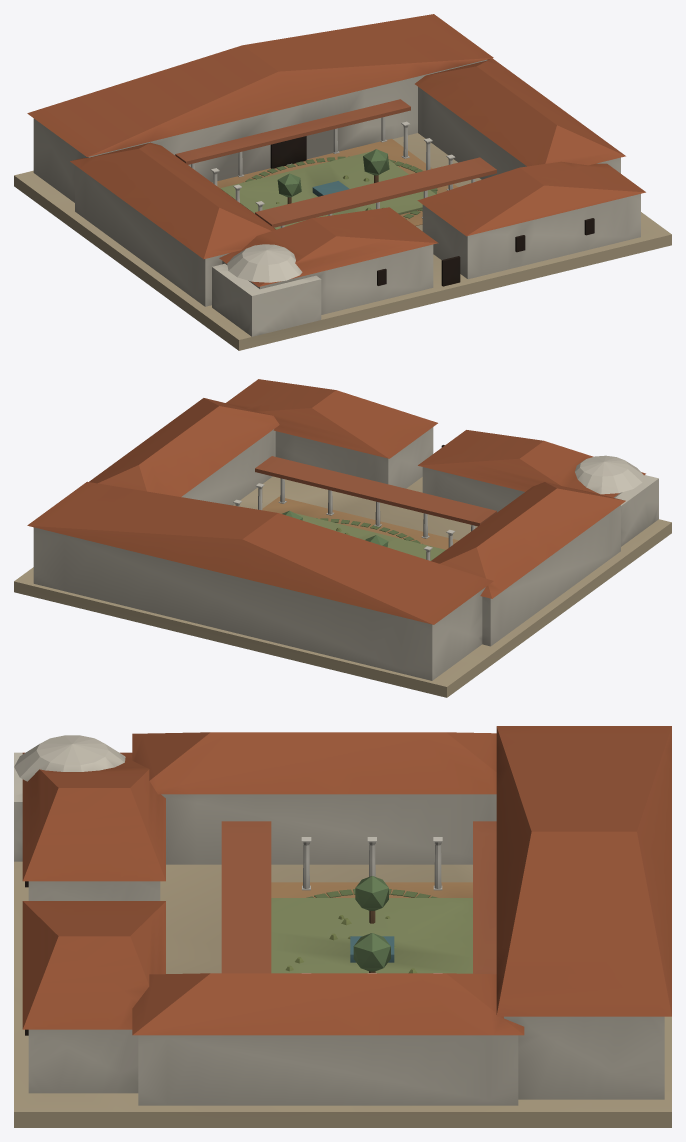
Rendered from villa-aviary.glb.
3 renders of one model, top to bottom at view 1: azimuth 30°, elevation 25°; view 2: azimuth 150°, elevation 25°; view 3: azimuth 270°, elevation 25°, orthographic. The views are drawn at different scales.
Parts seen in each view (by area): view 1: p2_roofs, p0_walls, p1_peristyle; view 2: p2_roofs, p0_walls, p1_peristyle; view 3: p2_roofs, p0_walls, p1_peristyle.
Boxes of the visible parts, x1=… form: p2_roofs: x1=27, y1=14, x2=645, y2=336; p0_walls: x1=14, y1=59, x2=671, y2=350; p1_peristyle: x1=191, y1=117, x2=475, y2=286; p2_roofs: x1=27, y1=379, x2=658, y2=624; p0_walls: x1=14, y1=427, x2=671, y2=697; p1_peristyle: x1=233, y1=445, x2=475, y2=560; p2_roofs: x1=14, y1=726, x2=671, y2=1035; p0_walls: x1=14, y1=794, x2=671, y2=1127; p1_peristyle: x1=285, y1=837, x2=442, y2=973.
Size of the model in its own units: 50 by 10.7 by 45.
